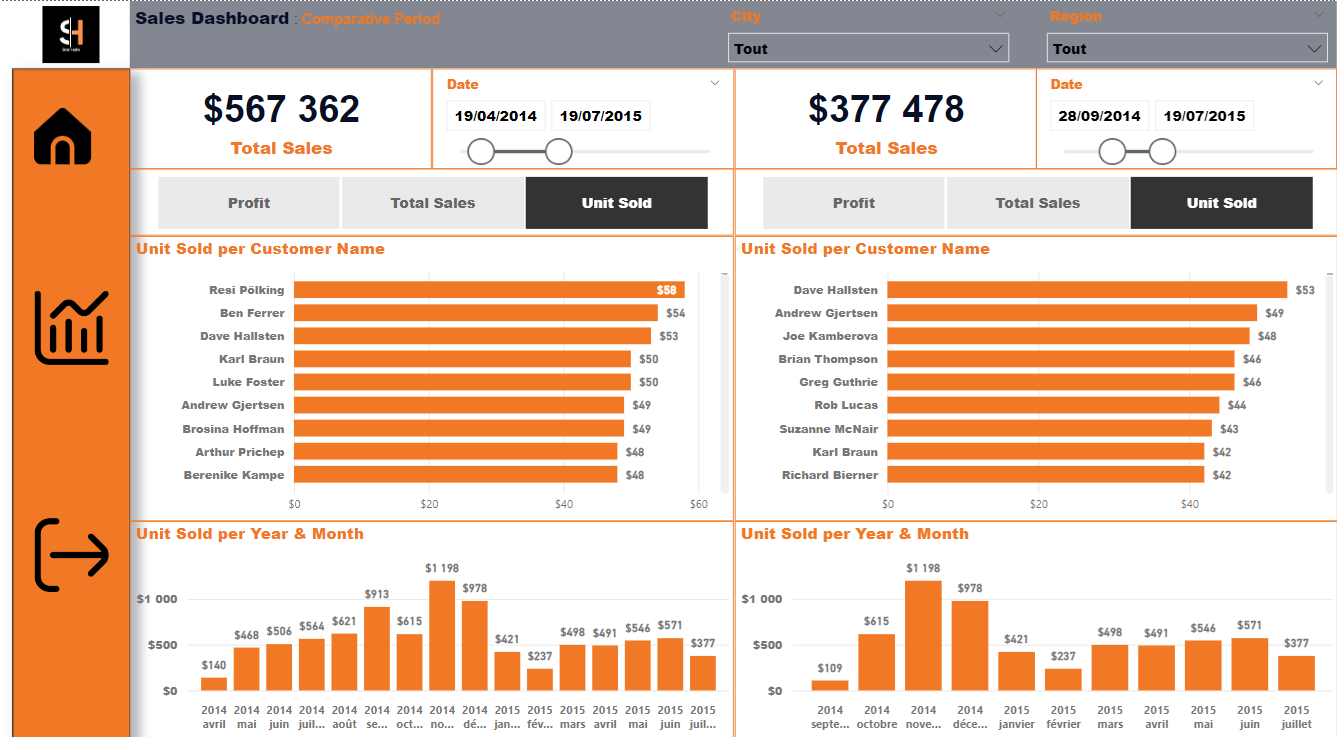

The page's visual inventory and layout, read from the dashboard file:
{"tool":"powerbi","page":{"name":"Page 1","canvas":[1280,720],"ordinal":0},"visuals":[{"type":"shape","box":[16,64,112,640],"z":0},{"type":"card","fields":{"Values":["Metrics.Total Sales"]},"box":[128,64,288,96],"z":1000},{"type":"barChart","title":"Unit Sold per Customer Name","fields":{"Y":["Metrics.Unit Sold"],"Category":["Orders.Customer Name"]},"box":[128,224,576,272],"z":2000},{"type":"columnChart","title":"Unit Sold per Year & Month","fields":{"Y":["Metrics.Unit Sold"],"Category":["Calendar.Month.Variation.Hiérarchie de dates.Année","Calendar.Month.Variation.Hiérarchie de dates.Mois"]},"box":[128,496,576,208],"z":3000},{"type":"slicer","fields":{"Values":["Calendar.Date"]},"box":[416,64,288,96],"z":4000},{"type":"slicer","fields":{"Values":["Paramètre.Paramètre"]},"box":[128,160,576,64],"z":5000},{"type":"card","fields":{"Values":["Metrics.Total Sales"]},"box":[704,64,288,96],"z":6000},{"type":"barChart","title":"Unit Sold per Customer Name","fields":{"Y":["Metrics.Unit Sold"],"Category":["Orders.Customer Name"]},"box":[704,224,576,272],"z":7000},{"type":"slicer","fields":{"Values":["Calendar.Date"]},"box":[992,64,288,96],"z":8000},{"type":"slicer","fields":{"Values":["Paramètre.Paramètre"]},"box":[704,160,576,64],"z":9000},{"type":"columnChart","title":"Unit Sold per Year & Month","fields":{"Y":["Metrics.Unit Sold"],"Category":["Calendar.Month.Variation.Hiérarchie de dates.Année","Calendar.Month.Variation.Hiérarchie de dates.Mois"]},"box":[704,496,576,208],"z":10000},{"type":"textbox","box":[16,112,288,48],"z":11000},{"type":"textbox","box":[128,0,1152,64],"z":12000},{"type":"image","box":[16,96,96,64],"z":13000},{"type":"image","box":[32,272,80,80],"z":14000},{"type":"image","box":[32,480,80,96],"z":15000},{"type":"slicer","fields":{"Values":["Orders.City"]},"box":[688,0,288,64],"z":16000},{"type":"slicer","fields":{"Values":["Orders.Region"]},"box":[992,0,288,64],"z":17000},{"type":"image","box":[16,0,112,64],"z":18000}]}

Visuals, with their boxes in screenshot pixels (x1, y1, x2, y2), scaled from the page's 1280x720 canvas onto the 1337x737 screenshot:
shape: {"left": 17, "top": 66, "right": 134, "bottom": 721}
card - Metrics.Total Sales: {"left": 134, "top": 66, "right": 435, "bottom": 164}
"Unit Sold per Customer Name" barChart: {"left": 134, "top": 229, "right": 735, "bottom": 508}
"Unit Sold per Year & Month" columnChart: {"left": 134, "top": 508, "right": 735, "bottom": 721}
slicer - Calendar.Date: {"left": 435, "top": 66, "right": 735, "bottom": 164}
slicer - Paramètre.Paramètre: {"left": 134, "top": 164, "right": 735, "bottom": 229}
card - Metrics.Total Sales: {"left": 735, "top": 66, "right": 1036, "bottom": 164}
"Unit Sold per Customer Name" barChart: {"left": 735, "top": 229, "right": 1336, "bottom": 508}
slicer - Calendar.Date: {"left": 1036, "top": 66, "right": 1336, "bottom": 164}
slicer - Paramètre.Paramètre: {"left": 735, "top": 164, "right": 1336, "bottom": 229}
"Unit Sold per Year & Month" columnChart: {"left": 735, "top": 508, "right": 1336, "bottom": 721}
textbox: {"left": 17, "top": 115, "right": 318, "bottom": 164}
textbox: {"left": 134, "top": 0, "right": 1336, "bottom": 66}
image: {"left": 17, "top": 98, "right": 117, "bottom": 164}
image: {"left": 33, "top": 278, "right": 117, "bottom": 360}
image: {"left": 33, "top": 491, "right": 117, "bottom": 590}
slicer - Orders.City: {"left": 719, "top": 0, "right": 1019, "bottom": 66}
slicer - Orders.Region: {"left": 1036, "top": 0, "right": 1336, "bottom": 66}
image: {"left": 17, "top": 0, "right": 134, "bottom": 66}
